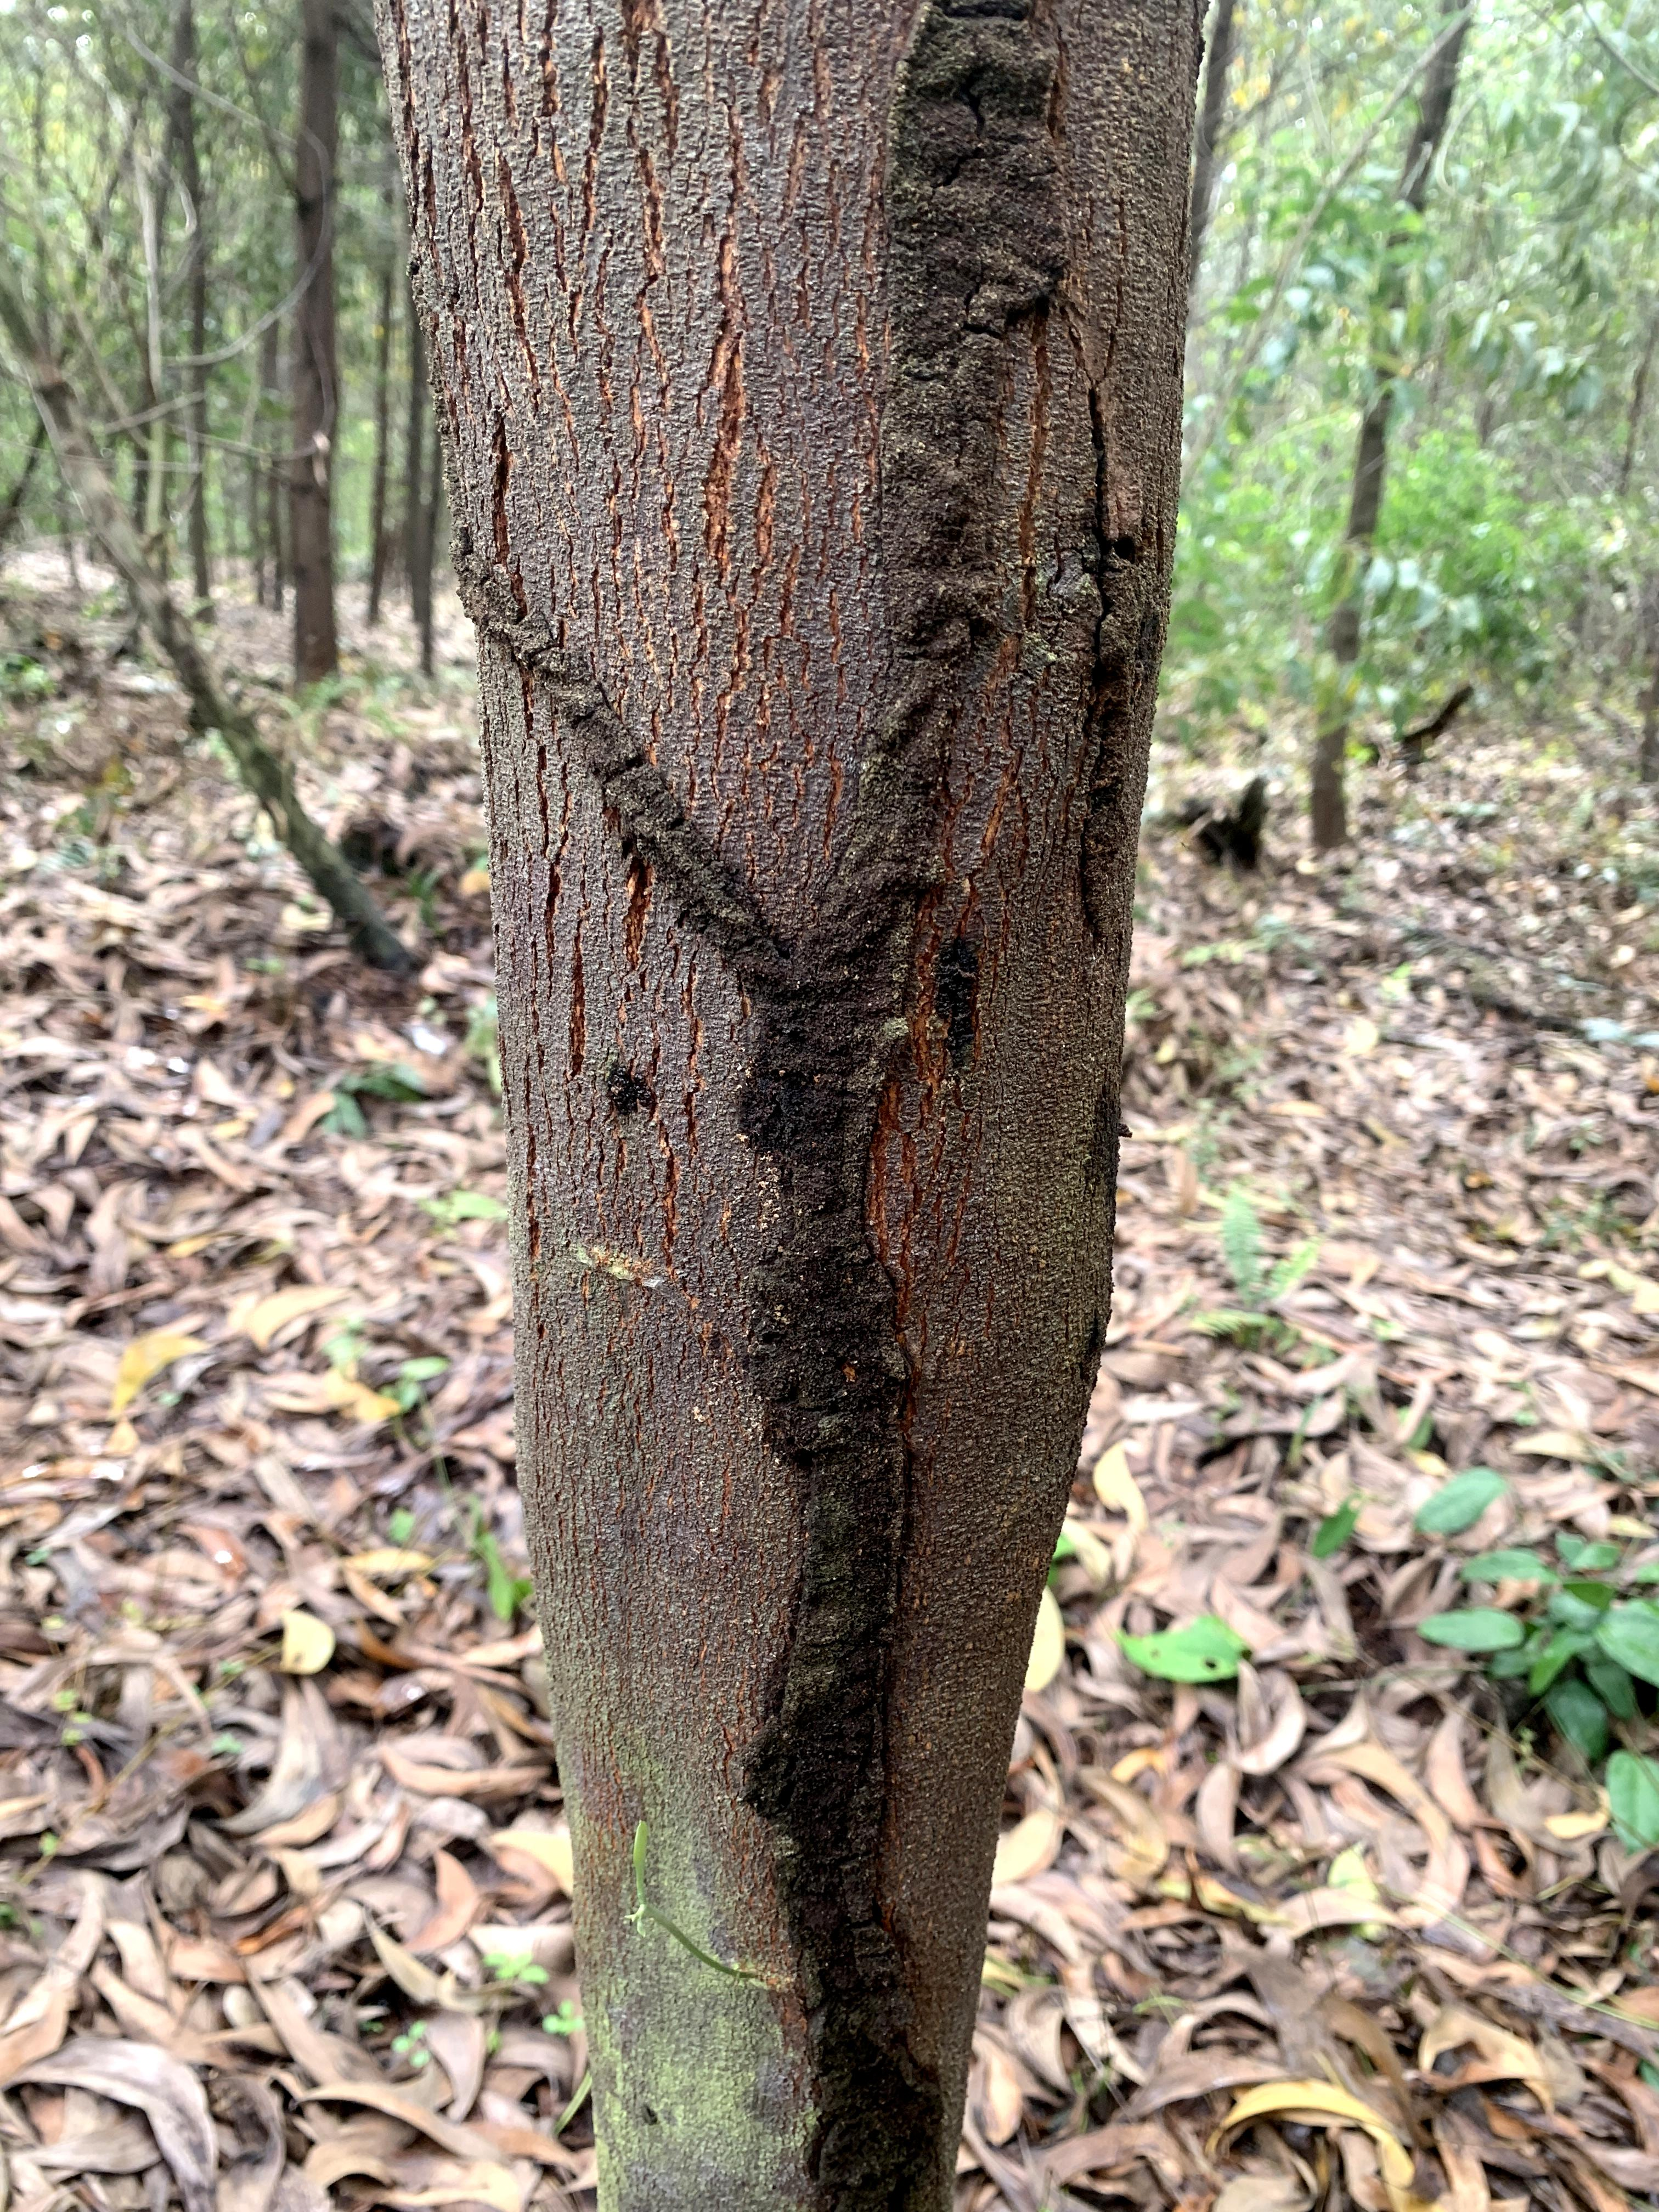Termite - Nest: (692, 852, 960, 2212)
